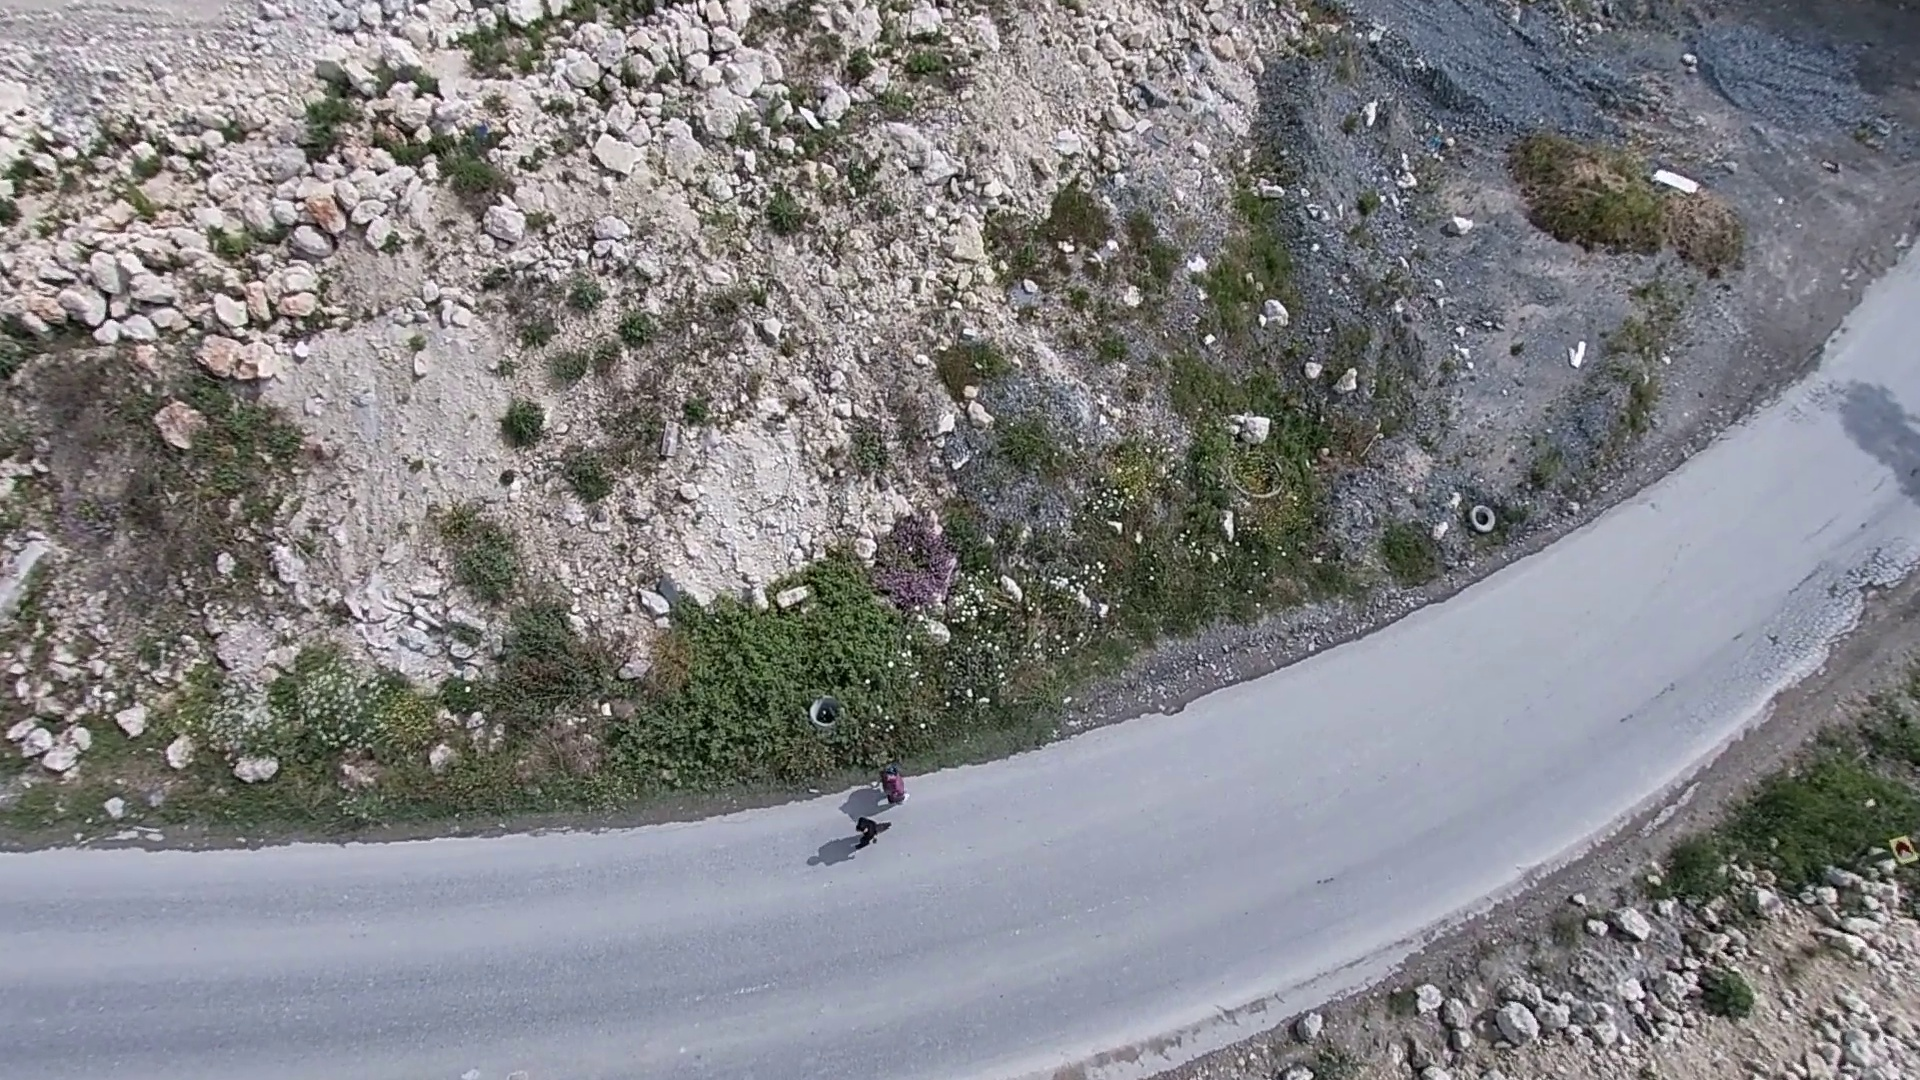insan: (844, 816, 898, 853), (873, 769, 912, 809)
